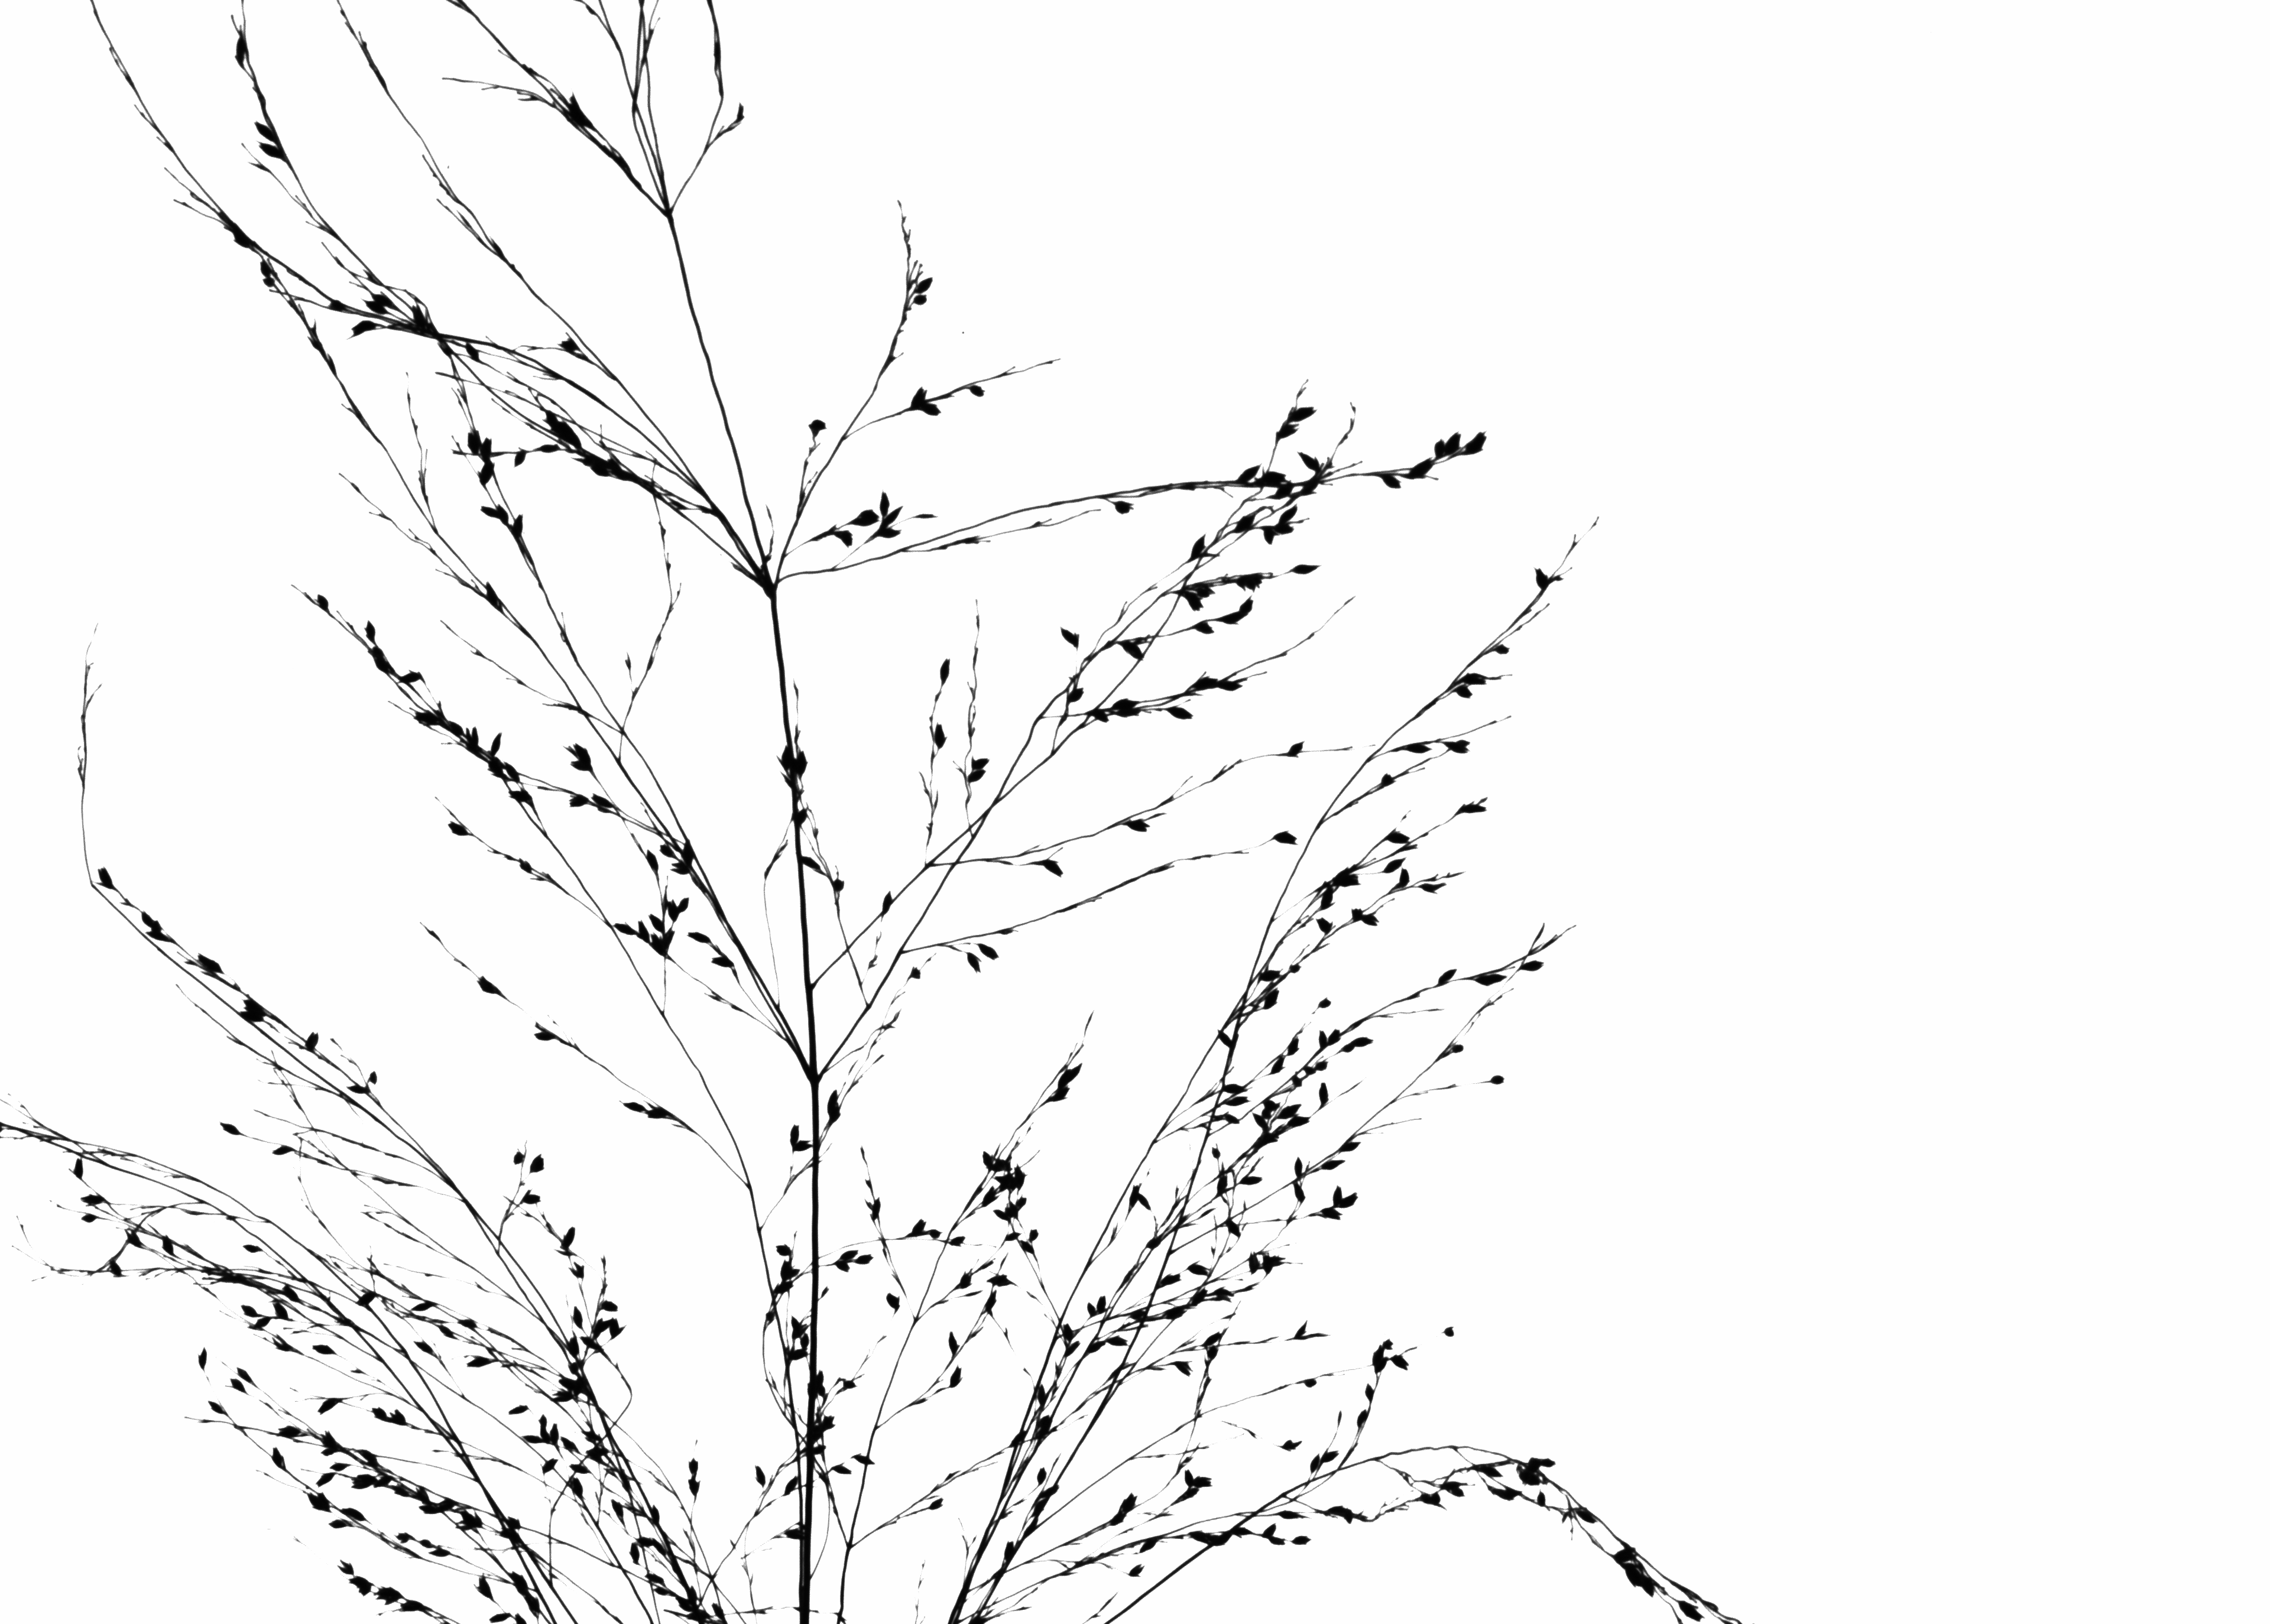seed: (1568, 1499, 1605, 1527), (1674, 1594, 1707, 1624), (568, 88, 589, 130), (369, 649, 396, 678), (348, 318, 382, 341), (1468, 968, 1507, 988), (251, 118, 280, 144), (253, 141, 288, 162), (1408, 455, 1437, 482), (1118, 636, 1146, 663), (197, 951, 227, 975), (559, 420, 584, 450), (1466, 427, 1491, 457), (505, 786, 538, 807), (482, 578, 503, 612), (848, 506, 881, 527), (1294, 450, 1328, 471), (1231, 510, 1257, 536), (316, 1394, 346, 1417), (1321, 1504, 1356, 1524), (1059, 1062, 1085, 1086), (825, 1086, 844, 1120), (1273, 826, 1301, 849), (568, 455, 608, 471), (360, 295, 390, 316), (475, 977, 506, 997), (568, 738, 593, 763), (1057, 624, 1081, 649), (1389, 1348, 1414, 1373), (1382, 854, 1408, 877), (244, 997, 273, 1018), (443, 817, 471, 838), (503, 759, 524, 787), (1187, 673, 1220, 691), (1285, 561, 1322, 576), (557, 1374, 587, 1394), (411, 710, 441, 729), (1164, 705, 1194, 724), (1473, 1461, 1503, 1480), (1635, 1570, 1655, 1599), (593, 791, 617, 814), (401, 666, 426, 689), (883, 504, 907, 527), (1238, 460, 1261, 485), (1194, 617, 1219, 640), (146, 930, 178, 947), (1287, 404, 1319, 422), (1437, 1316, 1458, 1343), (972, 942, 1000, 961), (1189, 533, 1208, 561), (1442, 738, 1470, 758), (1171, 1485, 1199, 1504), (1514, 1466, 1542, 1485), (1612, 1545, 1641, 1564), (276, 1422, 306, 1439), (1445, 429, 1463, 459), (1125, 1181, 1143, 1211), (139, 907, 162, 930), (1008, 1425, 1030, 1448), (97, 865, 118, 889), (512, 1568, 533, 1592), (462, 339, 484, 364), (913, 274, 937, 295), (1379, 473, 1403, 494), (1039, 858, 1064, 879), (1530, 564, 1551, 589), (1185, 1258, 1211, 1278), (1458, 800, 1489, 816), (1275, 1506, 1306, 1522), (401, 1598, 429, 1615), (477, 1573, 494, 1601), (480, 459, 498, 487), (1110, 698, 1145, 712), (1217, 675, 1245, 692), (948, 1364, 965, 1392), (378, 288, 399, 311), (1180, 591, 1203, 612), (1111, 497, 1136, 517), (1262, 986, 1282, 1011), (236, 1009, 266, 1025), (77, 1192, 107, 1207), (932, 721, 948, 750), (680, 837, 696, 866), (510, 513, 526, 543), (1120, 817, 1150, 833), (1419, 879, 1449, 895), (1519, 958, 1549, 974), (362, 615, 380, 642), (1275, 424, 1301, 441), (1261, 468, 1287, 485), (1190, 580, 1217, 598), (1386, 828, 1412, 845), (1268, 1053, 1285, 1079), (1417, 1489, 1444, 1506), (125, 1227, 146, 1248), (271, 1443, 287, 1471), (339, 1504, 367, 1520), (710, 954, 738, 970), (985, 1288, 1000, 1316), (663, 928, 679, 956), (779, 745, 795, 773), (798, 747, 812, 779), (686, 930, 714, 946), (644, 847, 659, 875), (466, 427, 482, 455), (557, 334, 578, 355), (916, 401, 944, 417), (1066, 685, 1087, 707), (1401, 742, 1433, 756), (1255, 967, 1284, 982), (1437, 967, 1458, 988), (1062, 1339, 1083, 1360), (302, 1030, 322, 1053), (271, 1299, 290, 1322), (355, 1446, 378, 1466), (1048, 1084, 1071, 1104), (800, 852, 823, 872), (566, 791, 589, 810), (1280, 503, 1299, 526), (1173, 1357, 1192, 1380), (1124, 1562, 1146, 1582), (160, 1232, 178, 1257), (621, 1098, 645, 1116), (964, 949, 981, 974), (568, 758, 593, 775), (487, 756, 505, 780), (234, 35, 246, 70), (909, 385, 927, 410), (1278, 1102, 1303, 1120), (1336, 1190, 1361, 1207), (985, 1274, 1015, 1288), (881, 888, 895, 917), (753, 1462, 768, 1489), (1291, 1179, 1306, 1206), (1104, 1334, 1131, 1350), (1229, 1522, 1255, 1538), (1488, 1485, 1514, 1501), (651, 1536, 670, 1557), (833, 529, 855, 548), (1313, 916, 1335, 935), (1189, 1287, 1210, 1306), (218, 1120, 241, 1137), (313, 1341, 336, 1359), (686, 1454, 703, 1476), (584, 1450, 607, 1468), (608, 1497, 626, 1520), (580, 1334, 603, 1352), (649, 910, 666, 933), (489, 731, 506, 754), (543, 410, 561, 432), (809, 415, 826, 438), (1129, 1308, 1152, 1325), (1294, 1318, 1312, 1341), (466, 1355, 494, 1369), (939, 657, 953, 685), (1287, 1032, 1301, 1060), (1215, 1169, 1229, 1197), (946, 1327, 960, 1355), (1530, 1454, 1558, 1468), (239, 1302, 264, 1318), (487, 1608, 512, 1624), (649, 1501, 665, 1526), (561, 1225, 577, 1250), (647, 1106, 672, 1121), (993, 1172, 1018, 1188), (1338, 1139, 1363, 1155), (1240, 1172, 1264, 1188), (1215, 1028, 1234, 1048), (315, 1469, 336, 1487), (570, 1476, 587, 1497), (594, 1316, 615, 1334), (571, 1304, 586, 1330), (614, 919, 635, 937), (258, 257, 276, 278), (967, 383, 988, 401), (1361, 912, 1382, 930), (1321, 884, 1335, 910), (1262, 1255, 1289, 1269), (1160, 1308, 1187, 1322), (1282, 1436, 1303, 1454), (1440, 1483, 1466, 1497), (345, 1575, 375, 1587), (482, 432, 494, 462), (355, 1290, 378, 1306), (413, 1338, 436, 1353), (531, 1153, 547, 1176), (855, 1450, 877, 1466), (830, 1462, 853, 1478), (784, 1475, 800, 1497), (911, 1216, 927, 1239), (410, 302, 426, 325), (478, 504, 501, 520), (1352, 1033, 1375, 1049), (1245, 1250, 1261, 1272), (109, 1255, 123, 1280), (199, 1345, 213, 1369), (380, 1584, 404, 1598), (329, 1517, 353, 1531), (568, 1461, 593, 1475), (591, 1315, 605, 1339), (513, 446, 527, 471), (879, 527, 904, 541), (1219, 612, 1243, 626), (1458, 673, 1486, 685), (1317, 1081, 1331, 1106), (1319, 1207, 1343, 1222), (1211, 1283, 1236, 1297), (1157, 1272, 1182, 1287), (1002, 1538, 1016, 1562), (283, 1283, 301, 1302), (438, 1323, 457, 1341), (236, 1366, 253, 1385), (229, 1376, 246, 1396), (506, 1512, 524, 1531), (383, 1591, 403, 1608), (710, 1599, 728, 1619), (561, 1434, 580, 1452), (515, 858, 535, 875), (830, 877, 848, 896), (448, 719, 466, 738), (1090, 708, 1110, 726), (1379, 770, 1396, 789), (1250, 1111, 1268, 1130), (1204, 1329, 1222, 1348), (1124, 1492, 1141, 1512), (510, 1403, 531, 1418), (981, 1185, 997, 1206), (788, 1118, 798, 1149), (965, 770, 986, 786), (1240, 596, 1255, 617), (1452, 736, 1473, 752), (1328, 1026, 1343, 1048), (1226, 1216, 1241, 1237), (1145, 1234, 1166, 1250), (1060, 1320, 1076, 1341), (1138, 1538, 1159, 1554), (1373, 1353, 1389, 1374), (549, 1420, 561, 1446), (531, 1032, 557, 1044), (870, 1195, 883, 1222), (1036, 1380, 1048, 1406), (1095, 1290, 1108, 1316), (251, 1316, 274, 1330), (457, 1316, 480, 1330), (454, 1517, 477, 1531), (689, 1476, 703, 1499), (793, 1135, 816, 1149), (978, 1148, 992, 1171), (651, 932, 665, 954), (795, 807, 809, 830), (1491, 642, 1514, 656), (1329, 1183, 1343, 1206), (1292, 1533, 1315, 1547), (1192, 1476, 1215, 1490), (879, 489, 890, 518), (1220, 1083, 1250, 1093), (1317, 1160, 1347, 1171), (207, 1399, 225, 1417), (610, 1323, 628, 1341), (884, 1292, 902, 1309), (1456, 685, 1473, 703), (1489, 1070, 1507, 1088), (1322, 1446, 1340, 1464), (415, 1483, 431, 1503), (1220, 1111, 1240, 1127), (1317, 997, 1336, 1012), (1136, 1192, 1152, 1211), (1037, 1411, 1053, 1431), (1088, 1341, 1108, 1357), (346, 1083, 371, 1095), (271, 1144, 295, 1156), (350, 1480, 375, 1492), (329, 1459, 353, 1471), (529, 1594, 542, 1619), (536, 443, 561, 455), (1400, 866, 1412, 891), (1294, 1155, 1306, 1179), (396, 1406, 410, 1427), (645, 1570, 666, 1584), (1016, 1195, 1030, 1216), (1016, 1164, 1027, 1192), (971, 756, 992, 770), (637, 919, 651, 940), (665, 898, 679, 919), (913, 511, 941, 522), (1039, 1483, 1060, 1497), (1034, 1464, 1048, 1485), (1356, 1408, 1370, 1429), (241, 1243, 264, 1255), (371, 1476, 394, 1489), (582, 1429, 605, 1441), (568, 1334, 580, 1357), (610, 1316, 622, 1339), (273, 1338, 290, 1353), (371, 1404, 389, 1420), (542, 1457, 557, 1475), (512, 1148, 527, 1165), (793, 1323, 811, 1339), (995, 1156, 1013, 1172), (927, 1227, 944, 1243), (316, 591, 332, 608), (913, 292, 930, 308), (1287, 740, 1305, 756), (1315, 1056, 1333, 1072), (1204, 1346, 1220, 1364), (1262, 1520, 1278, 1538), (1440, 1478, 1472, 1487), (325, 1427, 339, 1446), (651, 1584, 670, 1598), (601, 1299, 621, 1313), (774, 1243, 793, 1257), (856, 1251, 876, 1265), (992, 1209, 1011, 1223), (471, 722, 480, 752), (72, 1156, 84, 1178), (410, 1301, 434, 1311), (429, 1548, 454, 1559), (629, 1540, 640, 1564), (519, 1434, 543, 1445), (788, 1350, 809, 1362), (1433, 436, 1445, 457), (1363, 1381, 1375, 1403), (367, 1069, 383, 1084), (397, 1527, 413, 1543), (779, 1280, 797, 1294), (786, 1527, 804, 1541), (927, 1497, 944, 1512), (1268, 1534, 1285, 1548), (538, 1413, 549, 1436), (1264, 1253, 1275, 1276), (473, 1508, 485, 1527), (791, 1315, 804, 1334), (839, 1248, 858, 1260), (909, 963, 921, 982), (1308, 1454, 1321, 1473), (1224, 1097, 1250, 1106), (322, 1446, 343, 1457), (341, 1557, 355, 1573), (638, 1534, 654, 1548), (689, 1584, 700, 1605), (1022, 1241, 1036, 1257), (1289, 1074, 1305, 1088), (1451, 1040, 1466, 1055), (1087, 1299, 1097, 1320), (1303, 1376, 1319, 1390), (1532, 1490, 1546, 1506), (524, 1193, 542, 1206), (811, 1443, 828, 1455), (1029, 1225, 1041, 1243), (1262, 527, 1275, 545), (1350, 905, 1363, 923), (784, 1267, 804, 1278), (779, 1260, 789, 1280), (816, 1369, 826, 1388), (960, 1269, 971, 1288), (1008, 1199, 1018, 1218), (680, 895, 691, 914), (1317, 1028, 1328, 1048), (1182, 1468, 1192, 1487), (513, 1610, 527, 1624), (837, 1260, 851, 1274), (360, 1582, 373, 1598), (418, 1536, 434, 1548), (951, 1234, 967, 1246), (1006, 1230, 1022, 1243), (264, 276, 276, 292), (1301, 1063, 1317, 1076), (81, 1213, 98, 1223), (353, 1473, 375, 1482), (334, 1564, 352, 1575), (573, 1260, 584, 1278), (818, 1380, 826, 1401), (1335, 1408, 1345, 1425), (566, 1362, 580, 1374), (1382, 1336, 1394, 1350), (772, 1283, 781, 1302), (1291, 961, 1303, 974), (842, 1378, 856, 1388), (1210, 1144, 1220, 1158), (767, 1309, 775, 1323), (821, 1285, 830, 1299), (802, 1332, 809, 1350)
